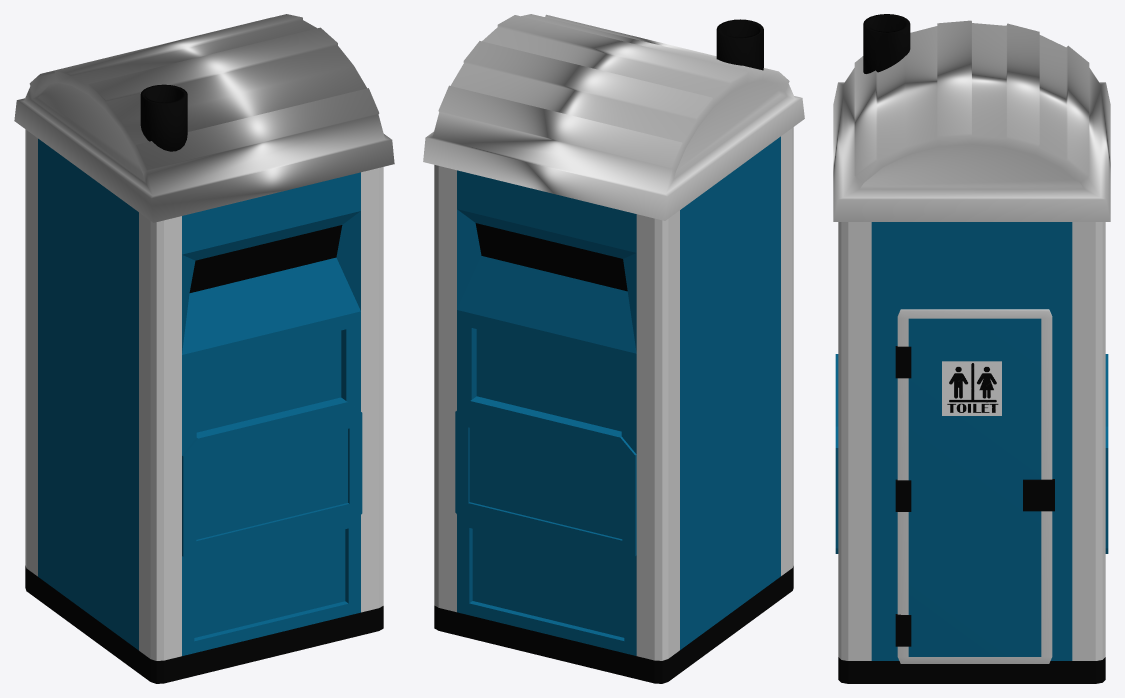
File: Public_Toliet_2.fbx
3 renders of one model, left to right at view 1: azimuth 30°, elevation 25°; view 2: azimuth 150°, elevation 25°; view 3: azimuth 270°, elevation 25°, orthographic.
Parts seen in each view (by area): view 1: Cube.004; view 2: Cube.004; view 3: Cube.004.
Part boxes in pixels (<box>): Cube.004: <box>14,14,394,683</box>; Cube.004: <box>423,14,804,683</box>; Cube.004: <box>833,14,1110,683</box>.
Size of the model in its own units: 210 by 465 by 208.
